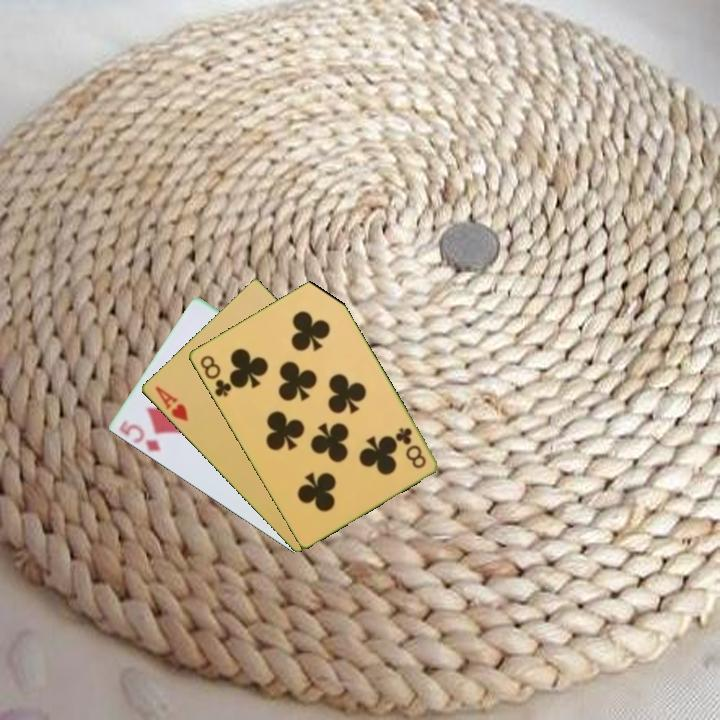5d: (115, 420, 164, 455)
8c: (196, 351, 234, 400), (391, 424, 429, 472)
Ah: (151, 383, 191, 425)
